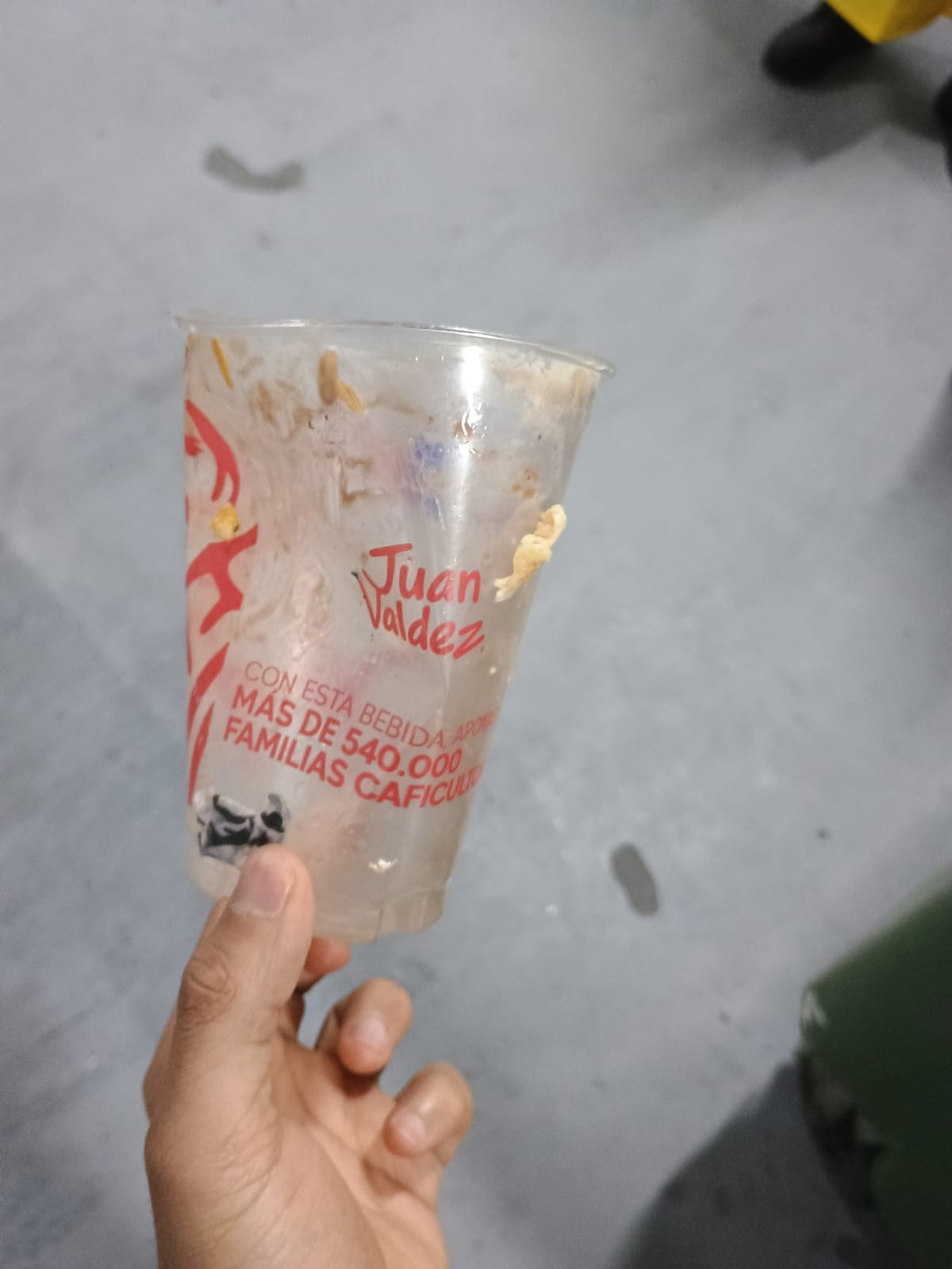Plastico: (173, 324, 620, 945)
